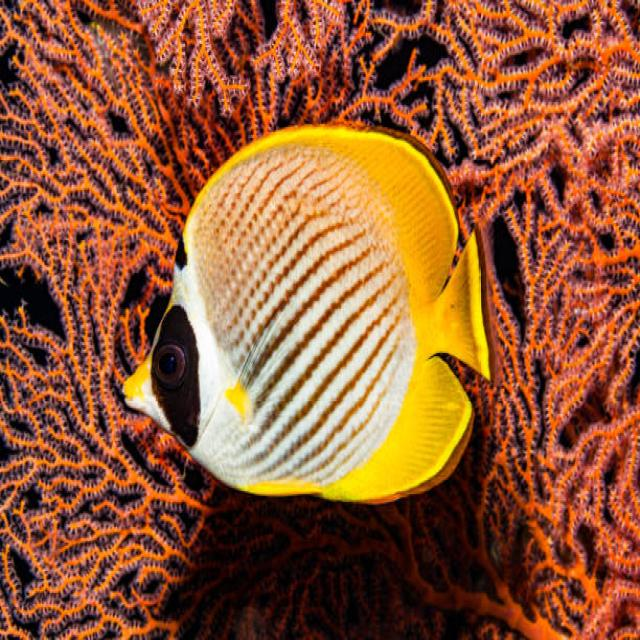ButterflyFish: (122, 126, 496, 504)
